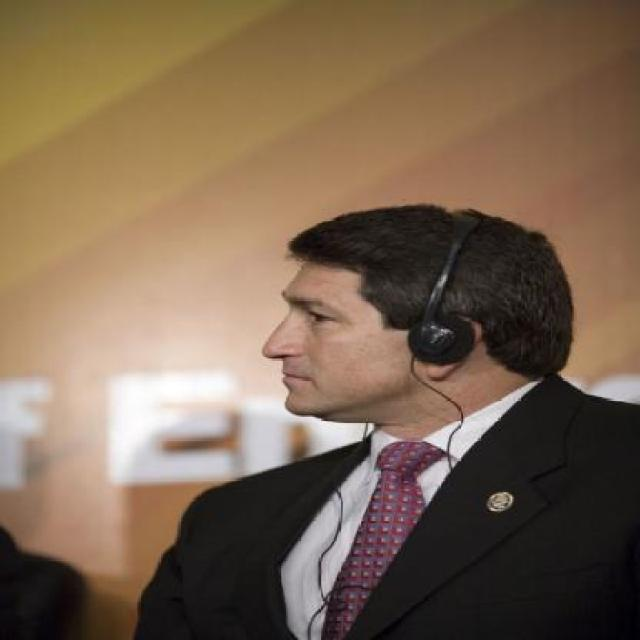earphone: (388, 186, 477, 386)
